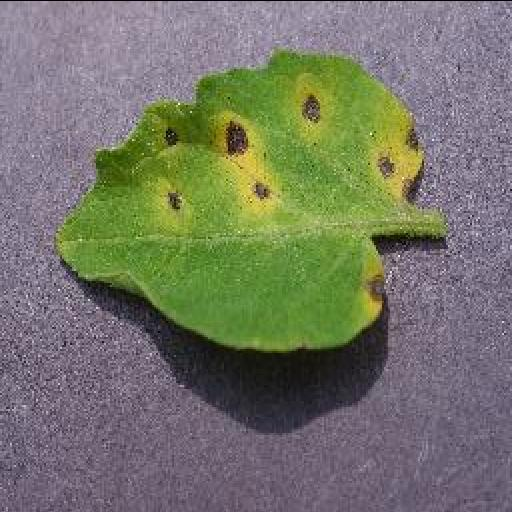disease_tomato: (52, 52, 424, 350)
